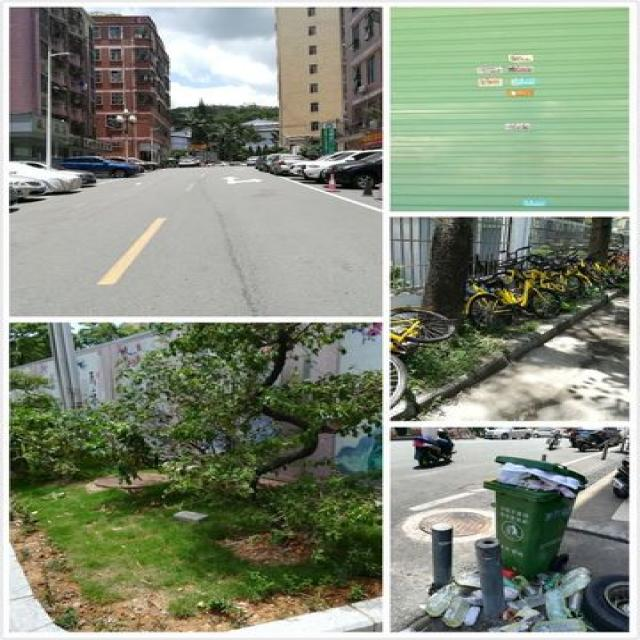garbage: (421, 565, 626, 631)
overflow: (480, 456, 585, 572)
